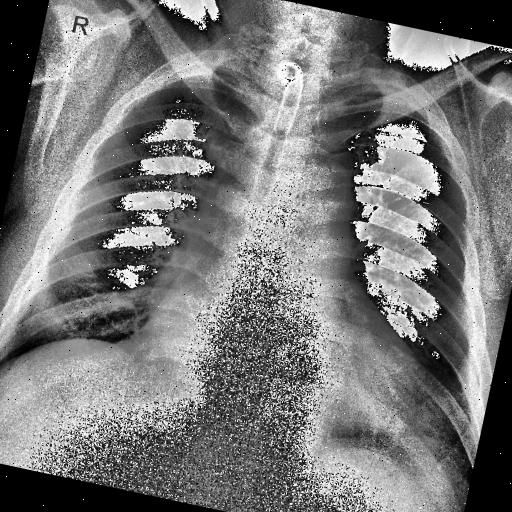0- Aortic enlargement: (272, 140, 372, 258), (264, 135, 368, 247)
11- Pleural thickening: (156, 51, 271, 109), (323, 72, 436, 128)
3- Cardiomegaly: (105, 297, 433, 476), (133, 275, 437, 458), (131, 278, 445, 443)
